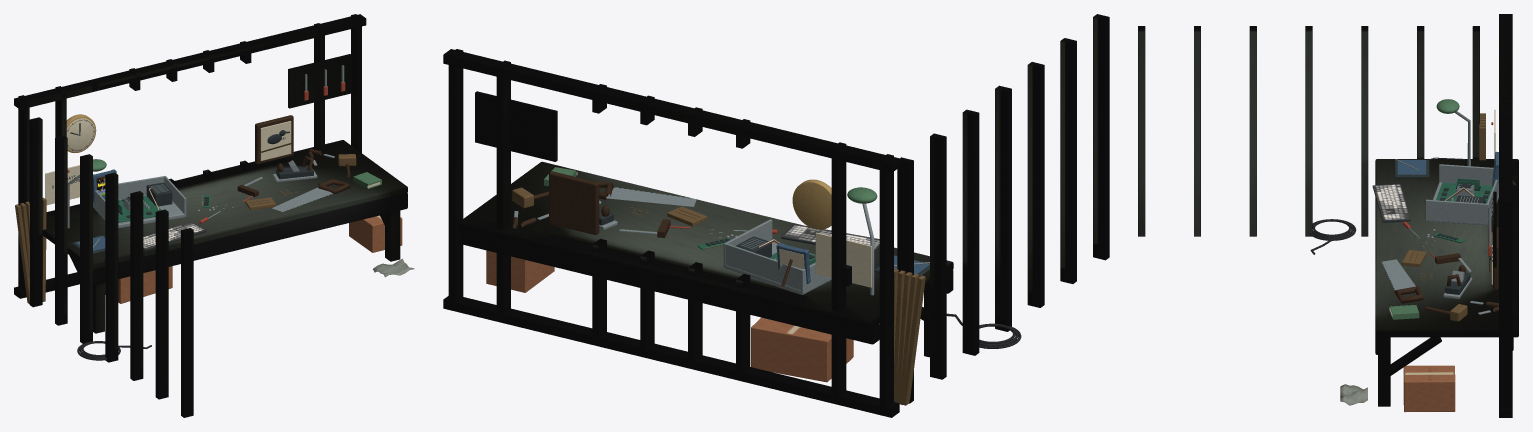
Rendered from workshop.glb.
3 renders of one model, left to right at view 1: azimuth 30°, elevation 25°; view 2: azimuth 150°, elevation 25°; view 3: azimuth 270°, elevation 25°, orthographic. The views are drawn at different scales.
Parts seen in each view (by area): view 1: Wall-mounted workbench top, Workbench front apron, Garage framing plate.001, Side exposed stud.001, Side exposed stud.002, Side exposed stud.003, Open computer assembly, Side exposed stud.006, Side exposed stud.005, Side exposed stud, Side exposed stud.004, Small practical pegboard (+19 smaller); view 2: Wall-mounted workbench top, Garage framing plate.001, Garage framing plate, Workbench wall ledger, Side exposed stud.004, Side exposed stud.002, Tools beneath built-in bench, Side exposed stud.001, Side exposed stud.005, Side exposed stud, Side exposed stud.003, Exposed garage wall stud.009 (+20 smaller); view 3: Wall-mounted workbench top, Open computer assembly, Exposed garage wall stud.009, Garage offcuts box, Garage framing plate.001, Side exposed stud.002, Side exposed stud, Side exposed stud.004, Side exposed stud.003, Side exposed stud.001, Keyboard, Side exposed stud.005 (+9 smaller).
Boxes of the visible parts, x1,y1,x2,y2 form: Wall-mounted workbench top: [42, 140, 407, 269]; Workbench front apron: [93, 192, 407, 285]; Garage framing plate.001: [14, 14, 366, 109]; Side exposed stud.001: [155, 209, 168, 399]; Side exposed stud.002: [130, 191, 143, 380]; Side exposed stud.003: [105, 172, 118, 362]; Open computer assembly: [93, 176, 186, 228]; Side exposed stud.006: [29, 117, 42, 307]; Side exposed stud.005: [55, 135, 67, 325]; Side exposed stud: [181, 228, 193, 417]; Side exposed stud.004: [80, 154, 92, 343]; Small practical pegboard: [288, 54, 351, 108]; Wall-mounted workbench top: [458, 161, 953, 330]; Garage framing plate.001: [443, 49, 899, 172]; Garage framing plate: [443, 296, 899, 417]; Workbench wall ledger: [461, 231, 879, 344]; Side exposed stud.004: [962, 109, 979, 355]; Side exposed stud.002: [1027, 62, 1044, 307]; Tools beneath built-in bench: [751, 317, 853, 382]; Side exposed stud.001: [1060, 38, 1076, 283]; Side exposed stud.005: [930, 133, 946, 379]; Side exposed stud: [1093, 14, 1109, 260]; Side exposed stud.003: [995, 85, 1011, 331]; Exposed garage wall stud.009: [448, 49, 463, 311]; Wall-mounted workbench top: [1375, 159, 1518, 337]; Open computer assembly: [1425, 164, 1498, 225]; Exposed garage wall stud.009: [1499, 194, 1512, 407]; Garage offcuts box: [1403, 365, 1455, 412]; Garage framing plate.001: [1499, 14, 1512, 208]; Side exposed stud.002: [1249, 26, 1256, 236]; Side exposed stud: [1138, 26, 1145, 236]; Side exposed stud.004: [1361, 26, 1368, 236]; Side exposed stud.003: [1305, 26, 1312, 236]; Side exposed stud.001: [1194, 26, 1200, 236]; Keyboard: [1372, 184, 1410, 222]; Side exposed stud.005: [1417, 26, 1424, 158].
Size of the model in its own units: 5.22 by 2.73 by 4.3.
Materials: 19 (18 with a texture image).
